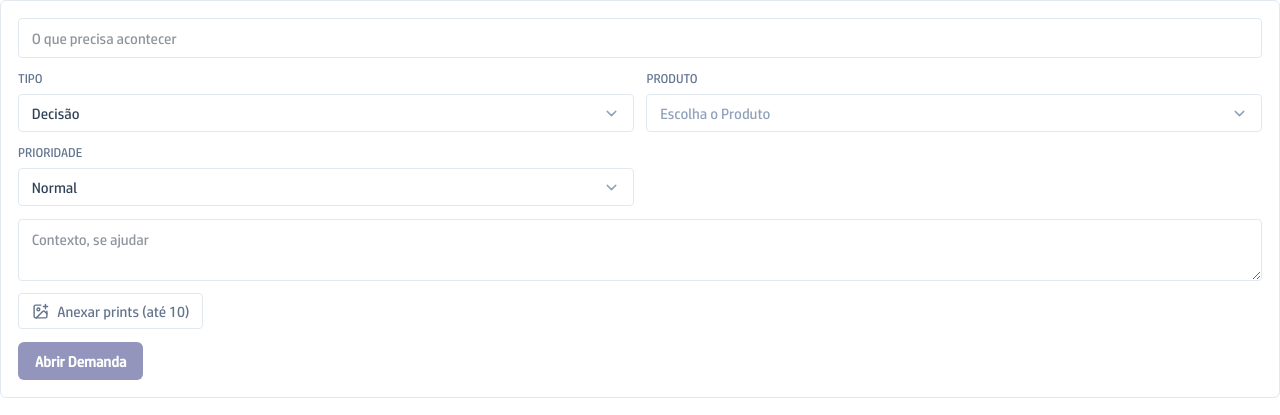
Scenario: Abrir uma Demanda › o botão só libera com título e Produto
Expected: the button "Abrir Demanda" is disabled, [18, 342, 143, 380]
In the field named "Título": (640, 38) [18, 18, 1262, 58], type "Só o título"
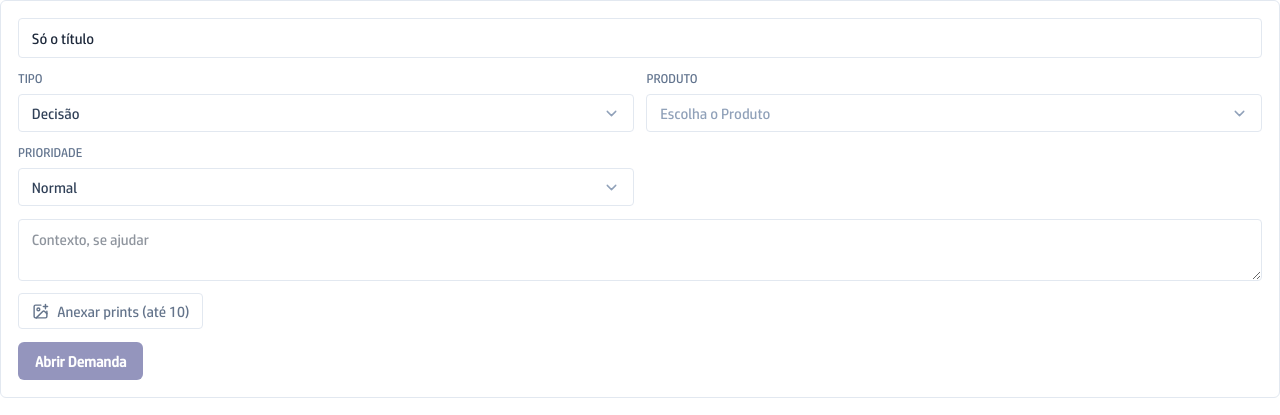
Expected: the button "Abrir Demanda" is disabled, [18, 342, 143, 380]
Click the dropdown labelled "Produto": click(715, 113) [646, 94, 1262, 132]
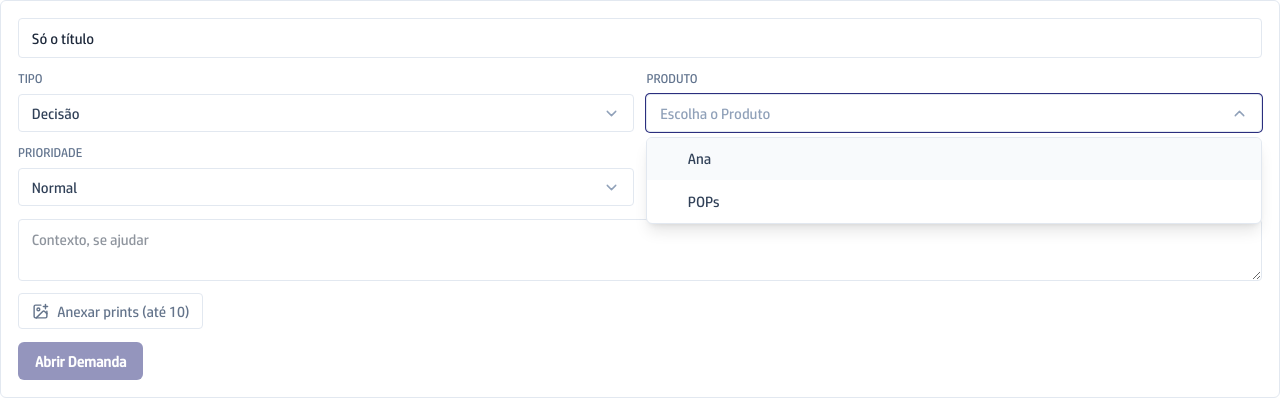
Click the option "Ana": click(699, 159) [647, 138, 1261, 180]
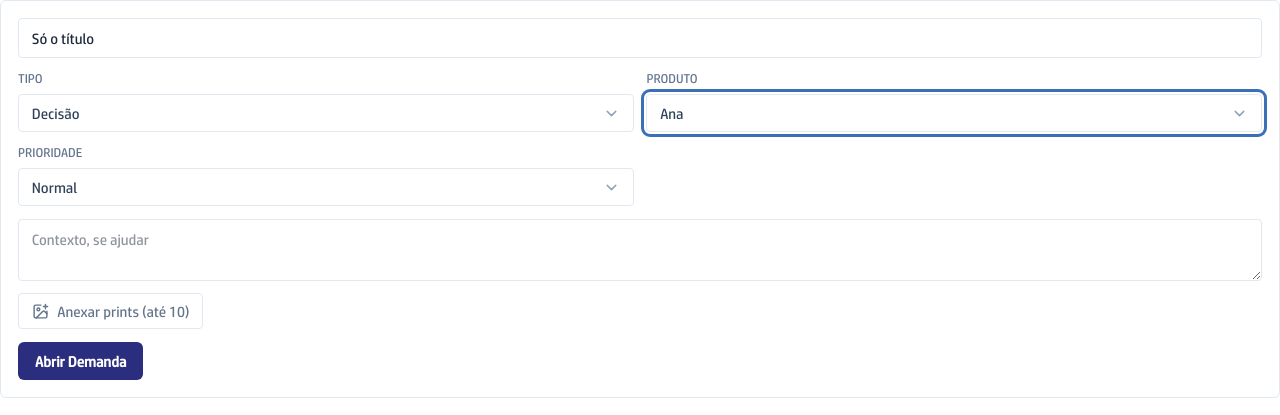
Now the button "Abrir Demanda" is enabled, box [18, 342, 143, 380]
